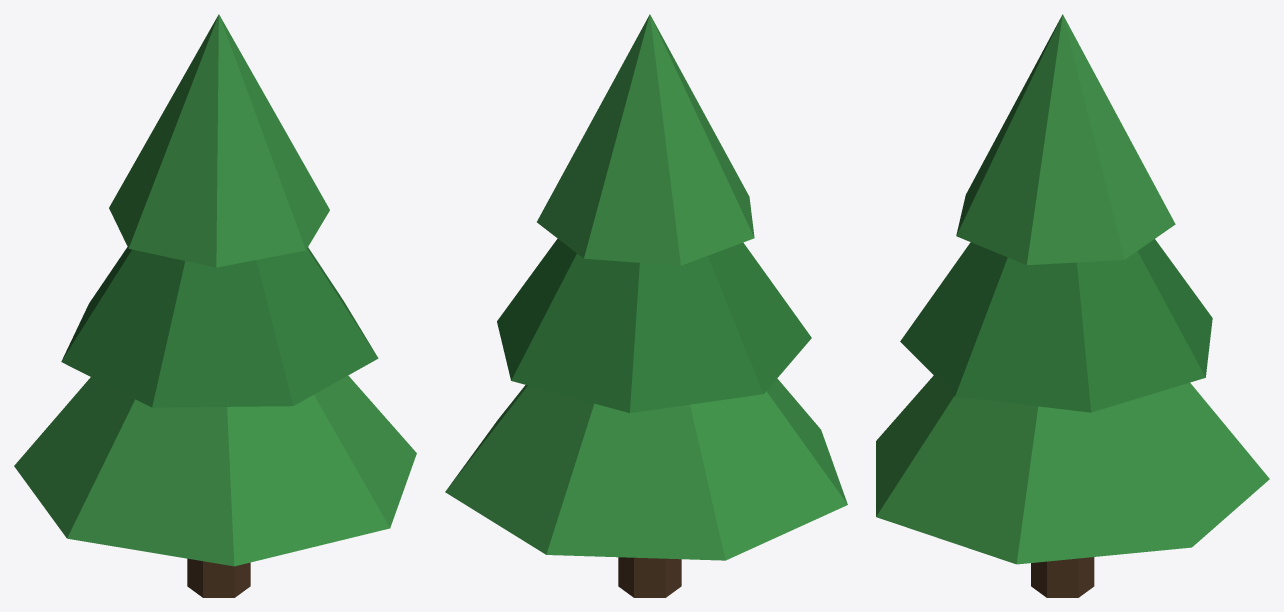
File: pine_tree.glb
3 renders of one model, left to right at view 1: azimuth 30°, elevation 25°; view 2: azimuth 150°, elevation 25°; view 3: azimuth 270°, elevation 25°, orthographic.
Parts seen in each view (by area): view 1: pine_tree; view 2: pine_tree; view 3: pine_tree.
Boxes of the visible parts, bbox=[...] form: pine_tree: bbox=[14, 14, 416, 597]; pine_tree: bbox=[445, 14, 847, 597]; pine_tree: bbox=[876, 14, 1269, 597].
Size of the model in its own units: 4.09 by 6.4 by 3.99.
